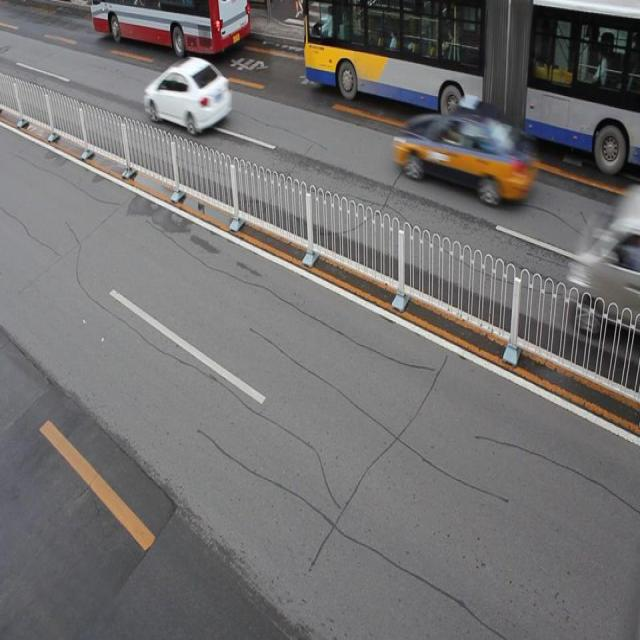car: (393, 108, 535, 204), (144, 56, 232, 134)
truck: (568, 183, 640, 335)
van: (301, 1, 640, 165), (92, 1, 249, 55)
